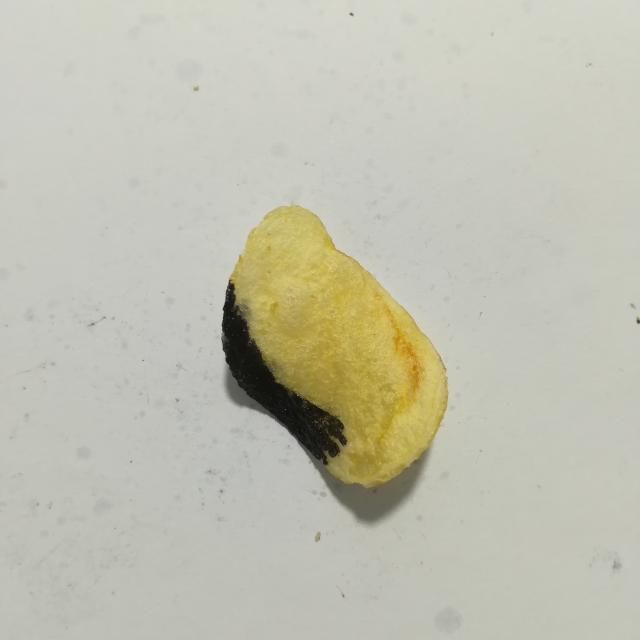chip: (222, 206, 448, 487)
damaged: (222, 281, 346, 464)
semi-damaged: (264, 359, 294, 391), (236, 298, 252, 323)
